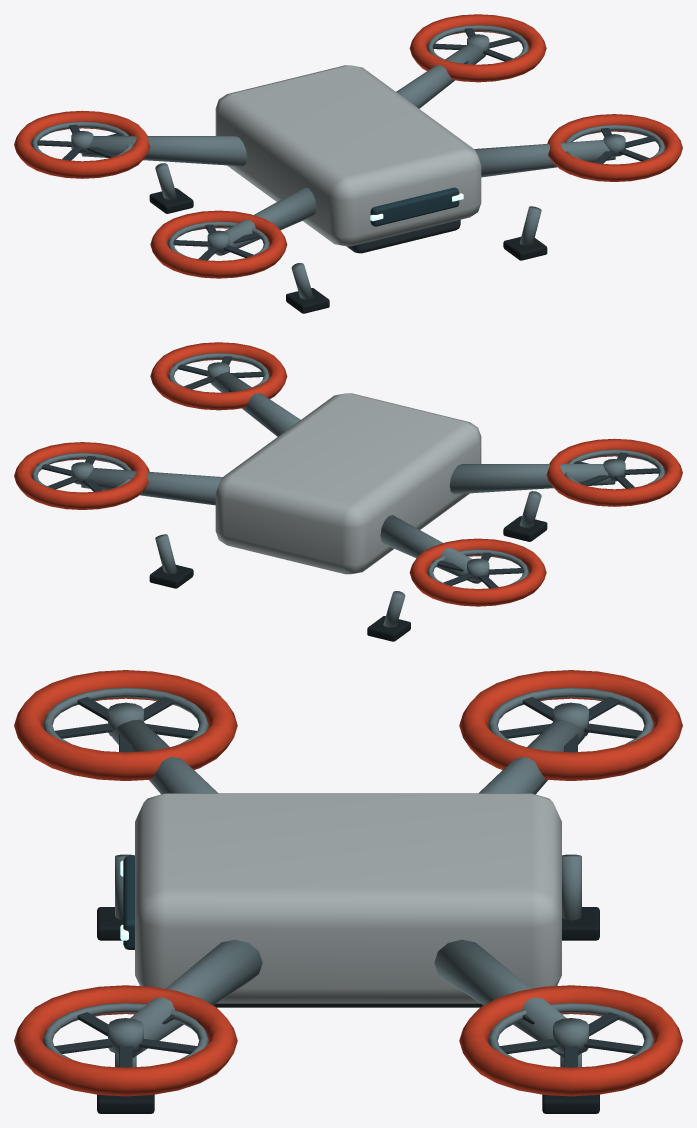
Rendered from frontier_drone.glb.
3 views of the same model, one above another, from view 1: azimuth 30°, elevation 25°; view 2: azimuth 150°, elevation 25°; view 3: azimuth 270°, elevation 25° (orthographic). The views are drawn at different scales.
Visible parts, largest first — view 1: frontier_drone; view 2: frontier_drone; view 3: frontier_drone.
Boxes of the visible parts, x1=… form: frontier_drone: x1=14, y1=14, x2=682, y2=313; frontier_drone: x1=14, y1=342, x2=682, y2=641; frontier_drone: x1=14, y1=670, x2=682, y2=1113.
Bounding box in the file's own units: 8.06 × 1.62 × 5.56.
